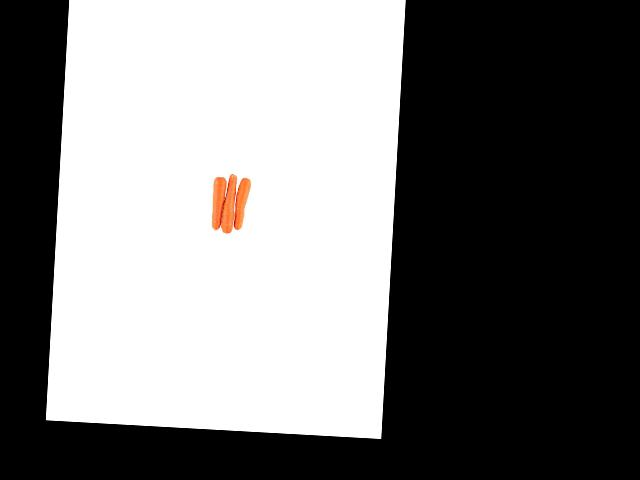carrot: (209, 172, 225, 235)
